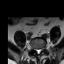CCS_normal: (37, 46, 39, 56)
LFS_stenosis: (41, 45, 43, 51)
LLS_normal: (39, 46, 41, 54)
RFS_stenosis: (33, 45, 35, 52)
RLS_normal: (35, 46, 37, 53)
